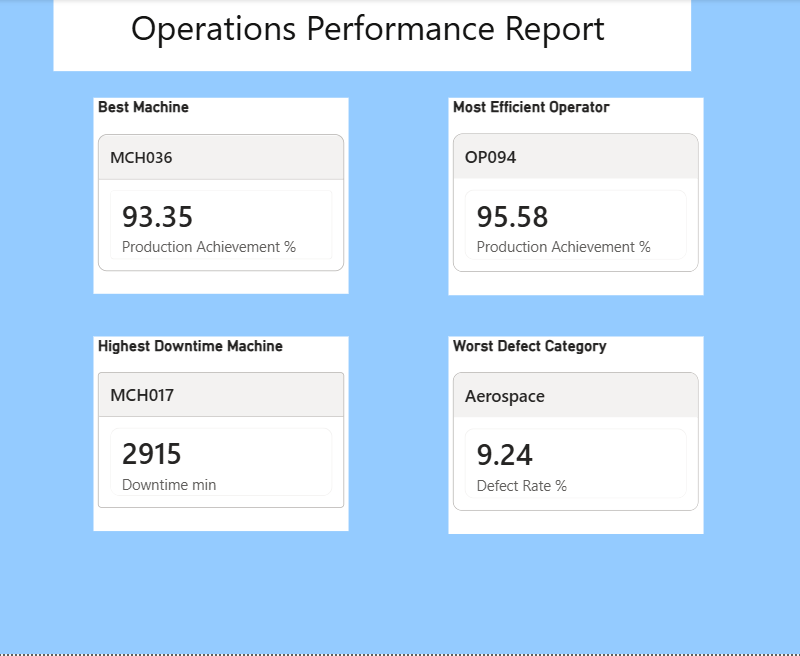

What the dashboard file says about the page in this screenshot:
{"tool":"powerbi","page":{"name":"Page 4","canvas":[1280,720],"ordinal":3},"visuals":[{"type":"cardVisual","title":"Best  Machine","fields":{"Rows":["Machine Master.Machine_ID"],"Data":["Production Log.Production Achievement %"]},"box":[145.6,107.8,280,215.6],"z":0},{"type":"cardVisual","title":"Most Efficient Operator","fields":{"Rows":["Production Log.Operator_ID"],"Data":["Production Log.Production Achievement %"]},"box":[535.6,107.8,280,216.7],"z":1000},{"type":"cardVisual","title":"Worst Defect Category","fields":{"Data":["Quality Inspection Log.Defect Rate %"],"Rows":["Product Master.Product_Category"]},"box":[535.6,370,280,216.7],"z":2000},{"type":"cardVisual","title":"Highest Downtime Machine","fields":{"Rows":["Downtime Log.Machine_ID"],"Data":["Sum(Downtime Log.Downtime_Minutes)"]},"box":[145.6,370,280,213.3],"z":3000},{"type":"textbox","box":[101.1,0,700,78.9],"z":4000}]}

Visuals, with their boxes on the page's 1280x720 design canvas (x1, y1, x2, y2). These are canvas units, not pixel positions in the 800x656 screenshot, which may show the page scaled, cropped or inside an application window:
"Best  Machine" cardVisual: [left=146, top=108, right=426, bottom=323]
"Most Efficient Operator" cardVisual: [left=536, top=108, right=816, bottom=324]
"Worst Defect Category" cardVisual: [left=536, top=370, right=816, bottom=587]
"Highest Downtime Machine" cardVisual: [left=146, top=370, right=426, bottom=583]
textbox: [left=101, top=0, right=801, bottom=79]
